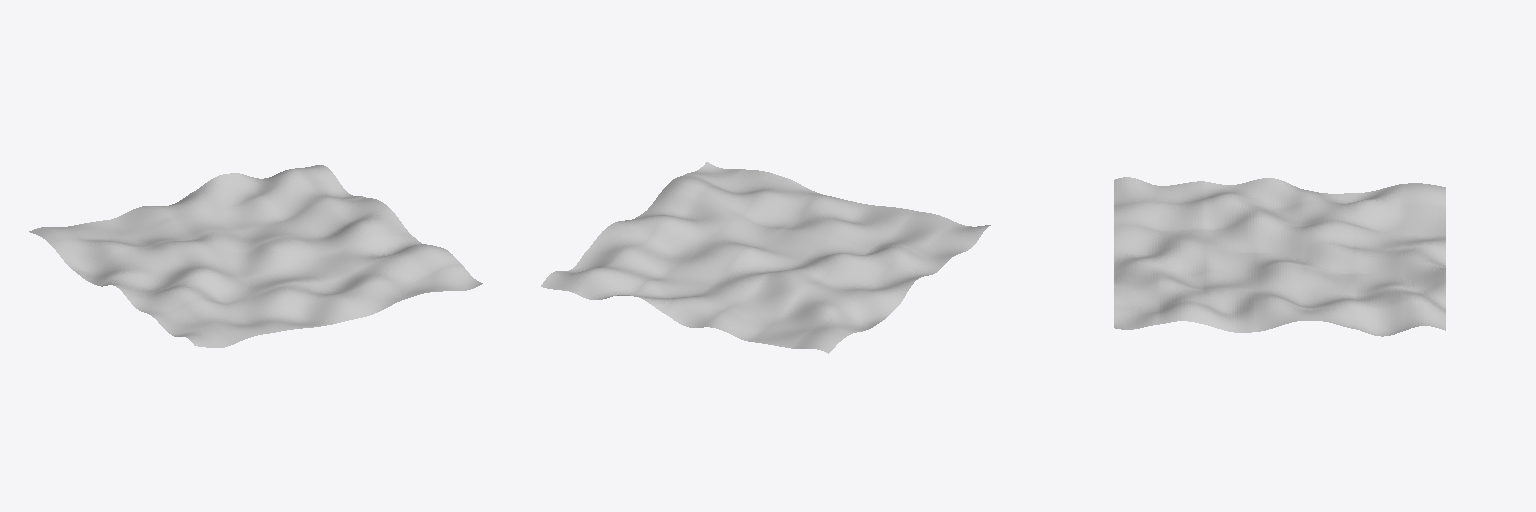
File: plan_test.obj
The picture shows the model from 3 angles: view 1: azimuth 30°, elevation 25°; view 2: azimuth 150°, elevation 25°; view 3: azimuth 270°, elevation 25°; orthographic projection.
Visible parts, largest first — view 1: Plan; view 2: Plan; view 3: Plan.
Boxes of the visible parts, box(x1,y1,x2,y2) form: Plan: box(29, 165, 482, 347); Plan: box(541, 162, 990, 353); Plan: box(1114, 177, 1445, 336).
Bounding box in the file's own units: 402 × 28.16 × 402.